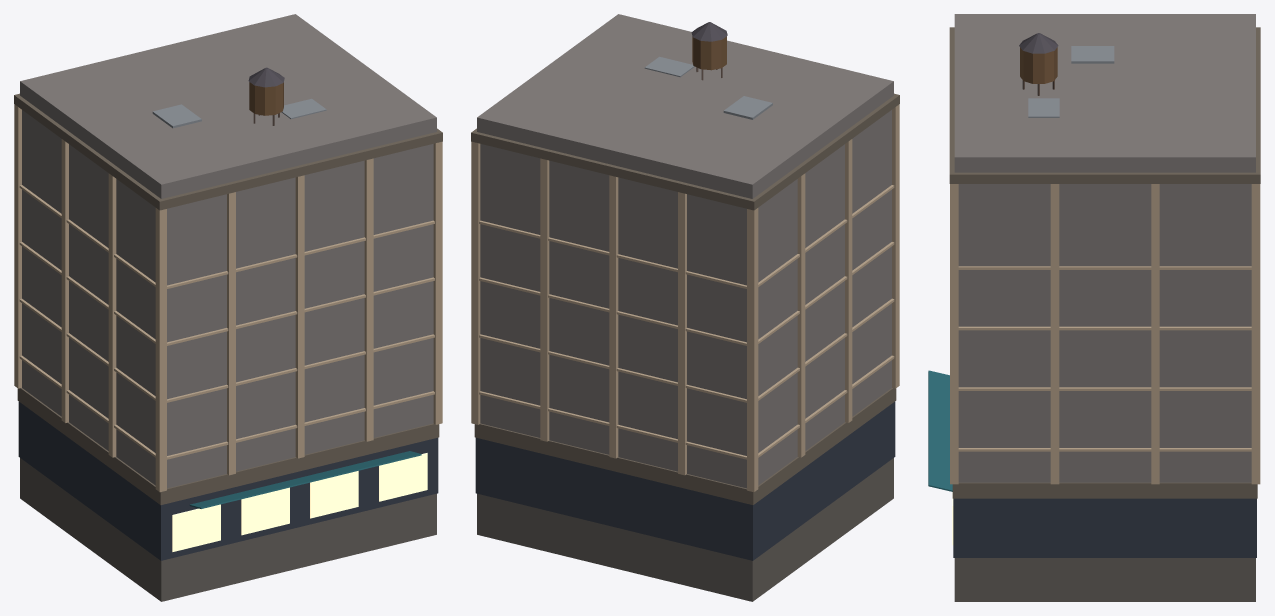
The model's file is building_2.glb.
3 renders of one model, left to right at view 1: azimuth 30°, elevation 25°; view 2: azimuth 150°, elevation 25°; view 3: azimuth 270°, elevation 25°, orthographic. The views are drawn at different scales.
Visible parts, largest first — view 1: building; view 2: building; view 3: building.
Boxes of the visible parts, x1=… form: building: x1=14, y1=14, x2=442, y2=601; building: x1=471, y1=14, x2=899, y2=601; building: x1=928, y1=14, x2=1260, y2=601.
Bounding box in the file's own units: 18.5 × 29.3 × 17.64.
